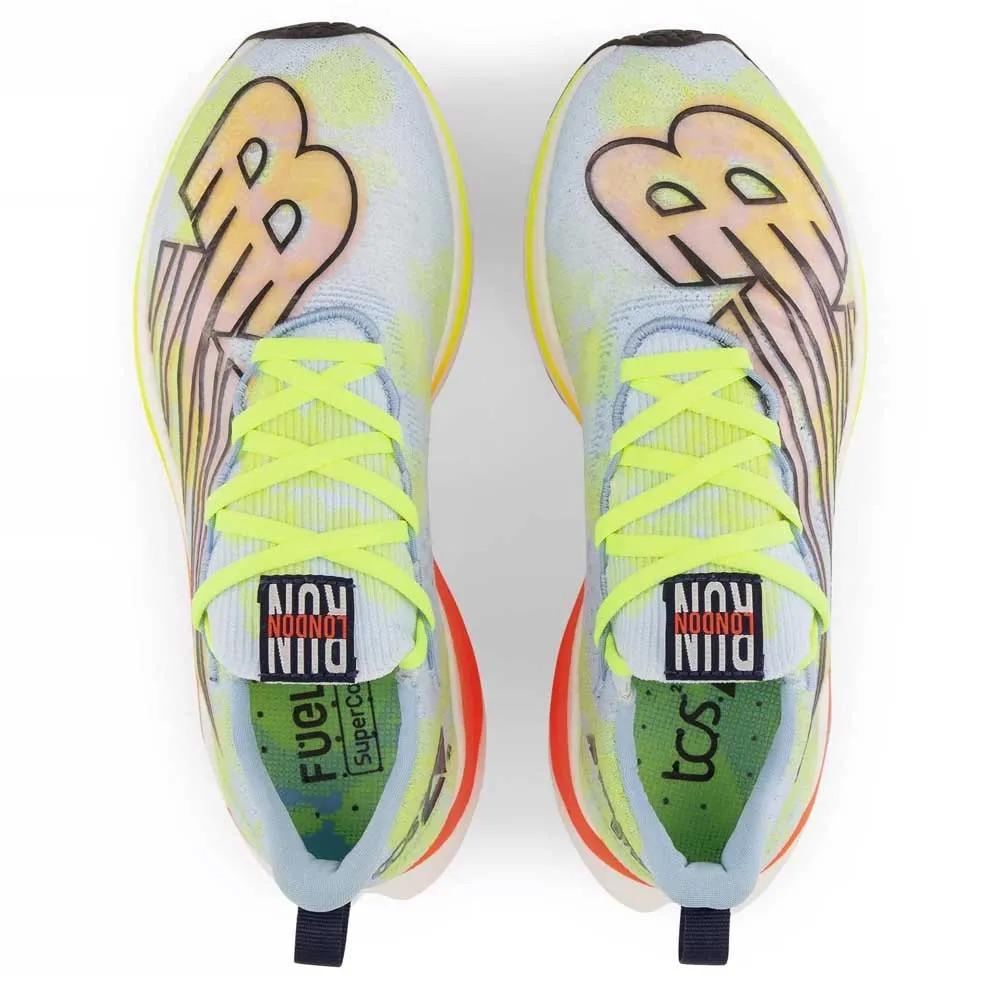NB logo: (576, 90, 869, 801), (136, 60, 390, 779)
